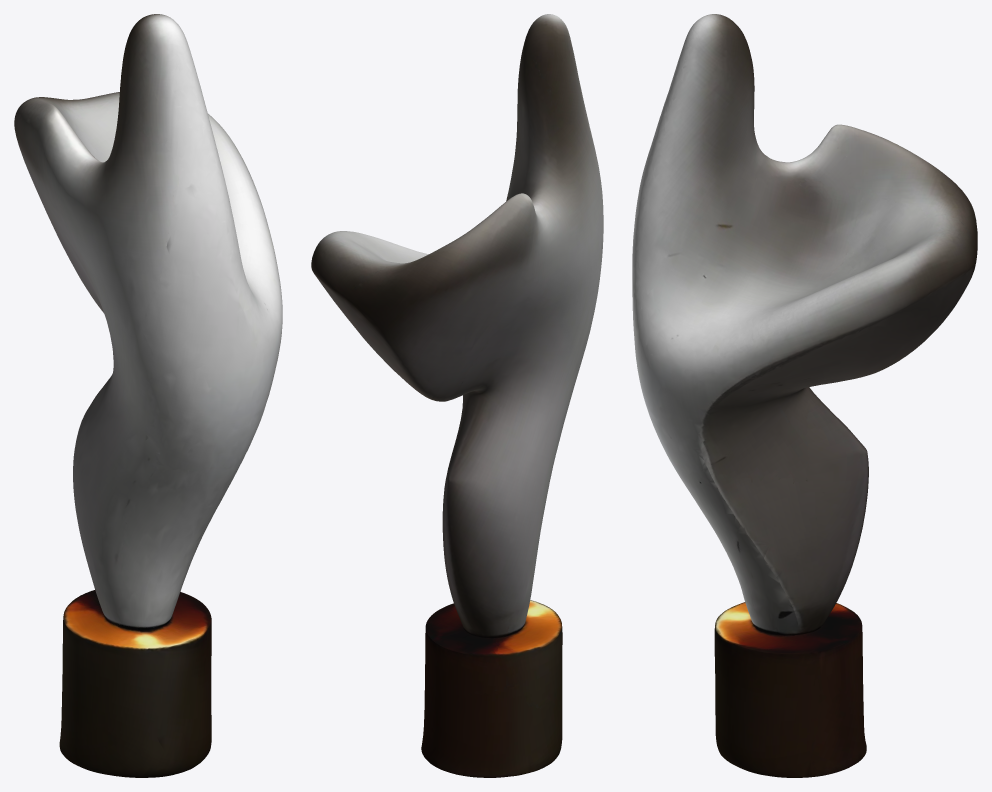
The model's file is abstract.glb.
3 renders of one model, left to right at view 1: azimuth 30°, elevation 25°; view 2: azimuth 150°, elevation 25°; view 3: azimuth 270°, elevation 25°, orthographic. The views are drawn at different scales.
Visible parts, largest first — view 1: model; view 2: model; view 3: model.
Part boxes in pixels (x1=…): model: x1=14, y1=14, x2=282, y2=777; model: x1=311, y1=14, x2=603, y2=777; model: x1=632, y1=14, x2=977, y2=777.
Bounding box in the file's own units: 0.5204 × 1.83 × 0.7918.
Materials: 1 (1 with a texture image).
